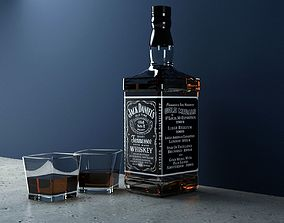Jack Daniel: (117, 2, 203, 200)
